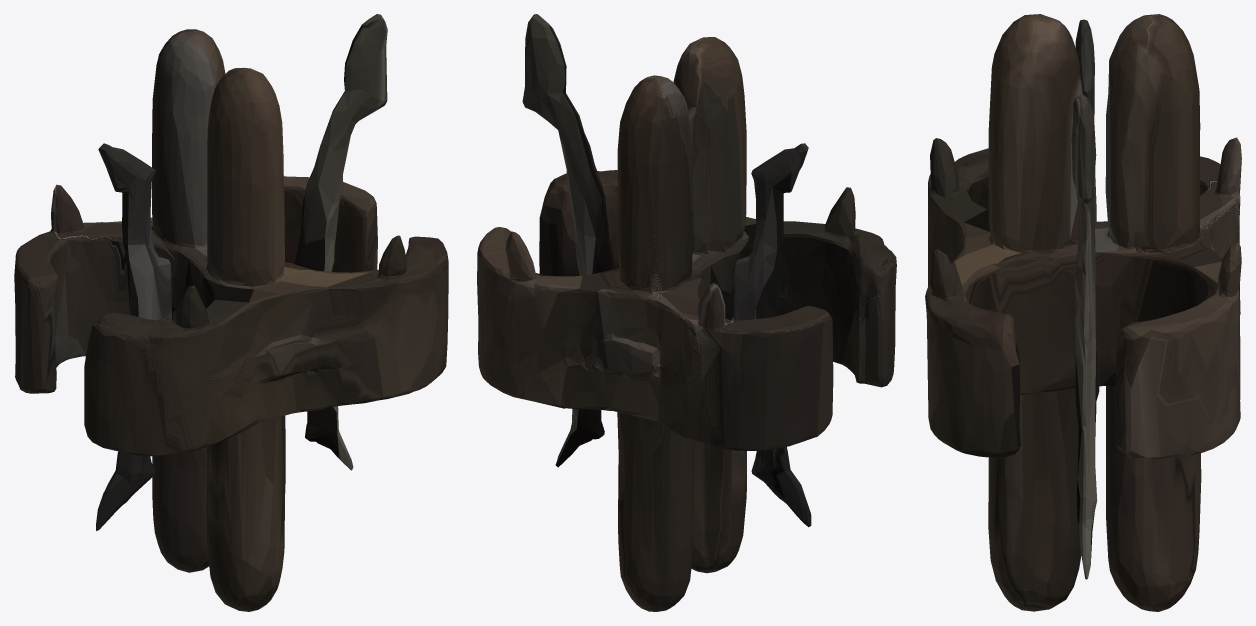
Rendered from tools.fbx.
3 views of the same model, side by side, from view 1: azimuth 30°, elevation 25°; view 2: azimuth 150°, elevation 25°; view 3: azimuth 270°, elevation 25° (orthographic). The views are drawn at different scales.
Visible parts, largest first — view 1: Tools; view 2: Tools; view 3: Tools.
Part boxes in pixels (x1,y1,x2,y2): Tools: (14, 14, 448, 611); Tools: (477, 14, 896, 611); Tools: (925, 14, 1241, 611).
Bounding box in the file's own units: 0.1224 × 0.1794 × 0.0863.
